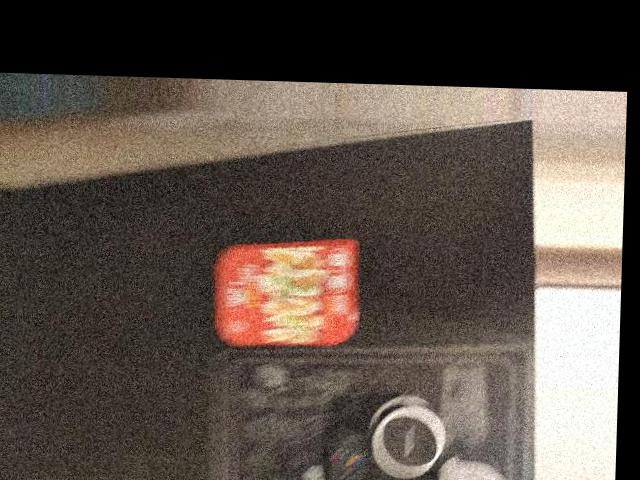cheese: (208, 227, 367, 361)
